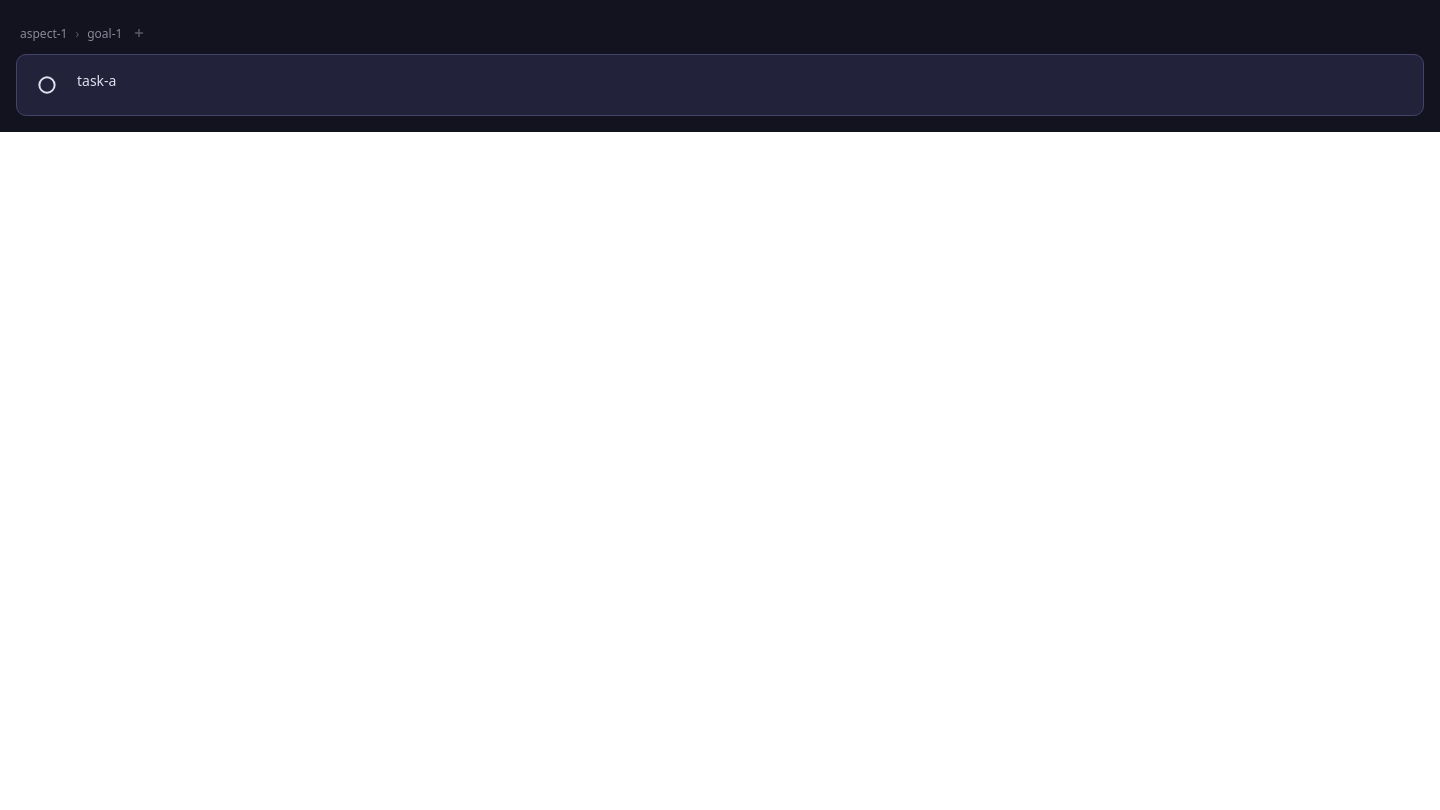
Test: ListView › keyboard navigation and actions › Ctrl+O opens the node search over every node kind
Expected: the field with placeholder "common:searchNodesPlaceholder" is not shown
Press o
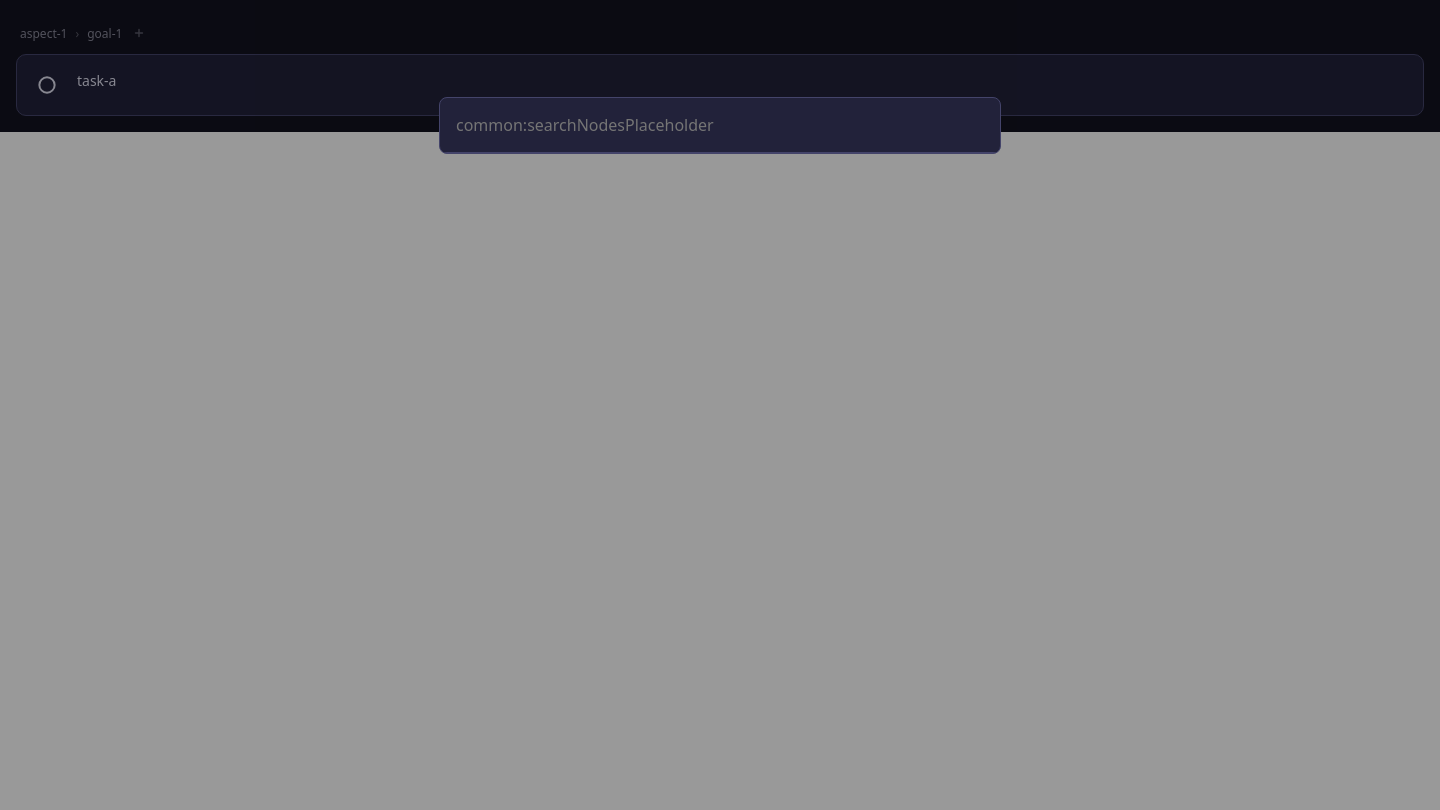
In the field with placeholder "common:searchNodesPlaceholder": [720, 126] box [440,98,1000,153], type "arlesh"
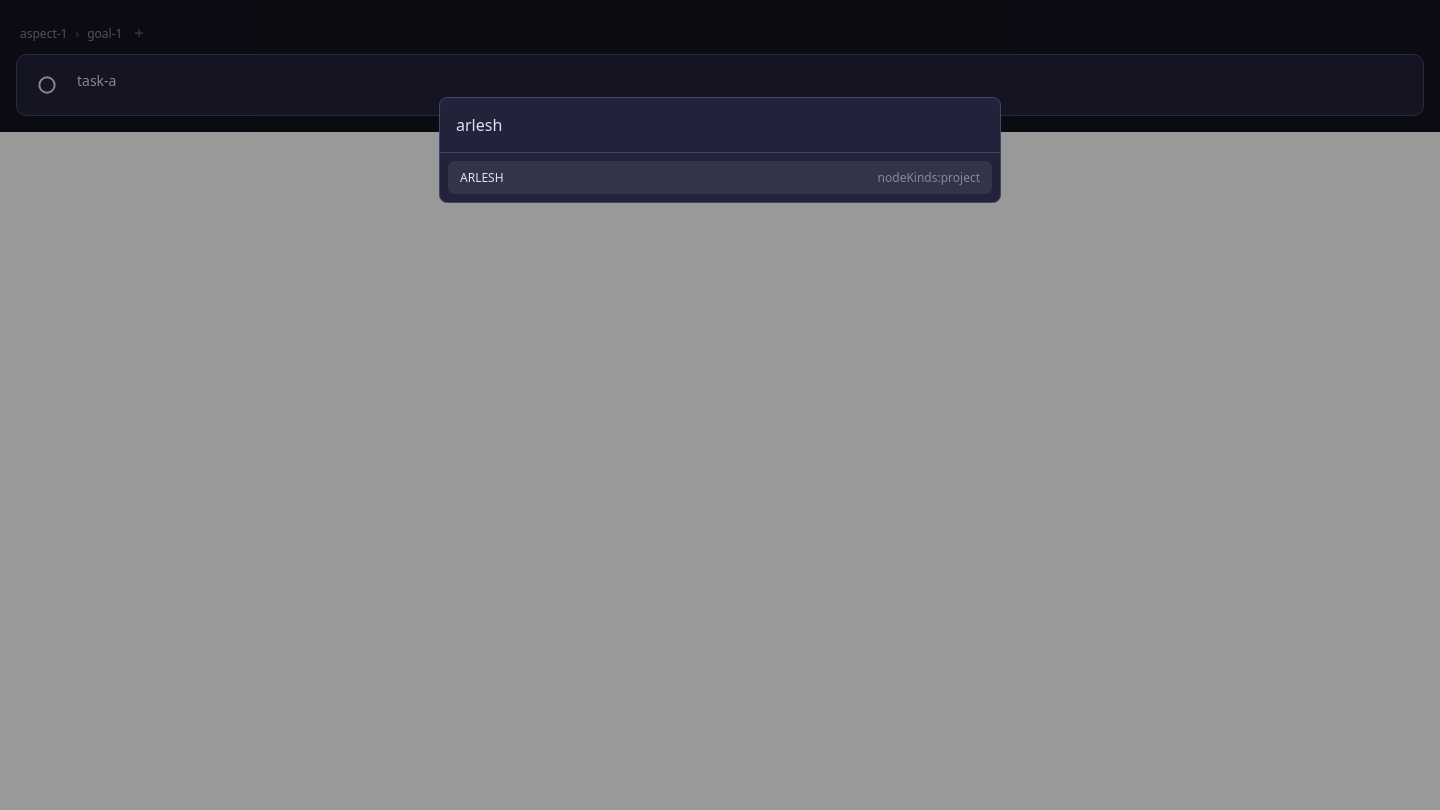
Result: the text "ARLESH" is shown at [460,169,504,186]
